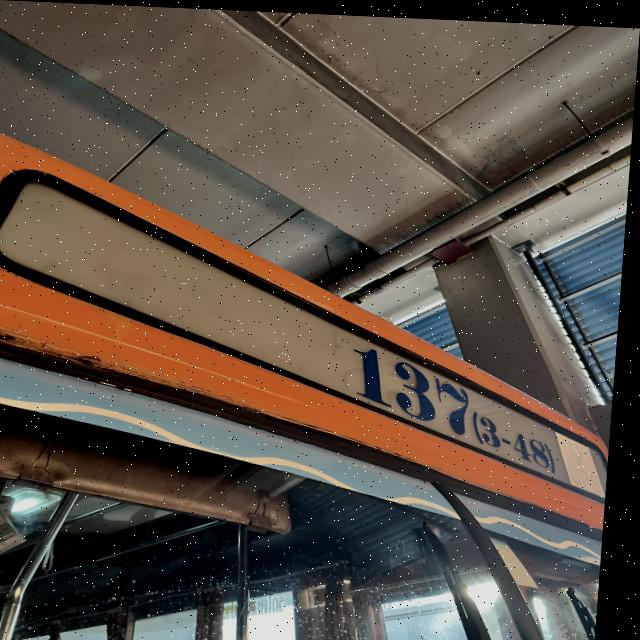BMTA-bus: (0, 128, 616, 640)
Bus Line Number: (345, 330, 569, 474)
